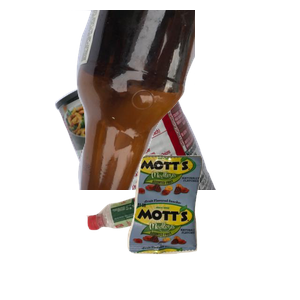glass: (60, 10, 300, 190)
metal: (52, 57, 260, 237)
plastic: (84, 191, 242, 300)
trash: (125, 152, 300, 300)
